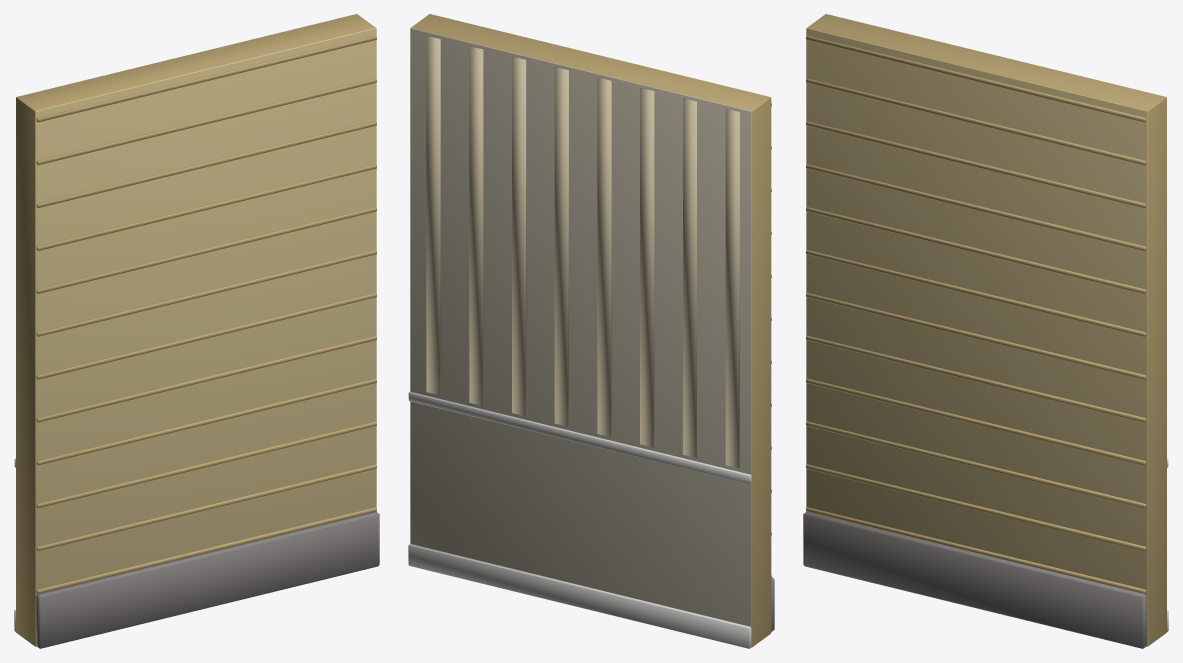
Rendered from wall_cream.glb.
The picture shows the model from 3 angles, left to right: view 1: azimuth 30°, elevation 25°; view 2: azimuth 150°, elevation 25°; view 3: azimuth 330°, elevation 25°; orthographic projection.
Parts seen in each view (by area): view 1: wall_cream; view 2: wall_cream; view 3: wall_cream.
Boxes of the visible parts, left/top/right/bottom form: wall_cream: left=14, top=14, right=379, bottom=648; wall_cream: left=408, top=14, right=774, bottom=648; wall_cream: left=803, top=14, right=1168, bottom=648.
Size of the model in its own units: 2 by 3 by 0.26.
